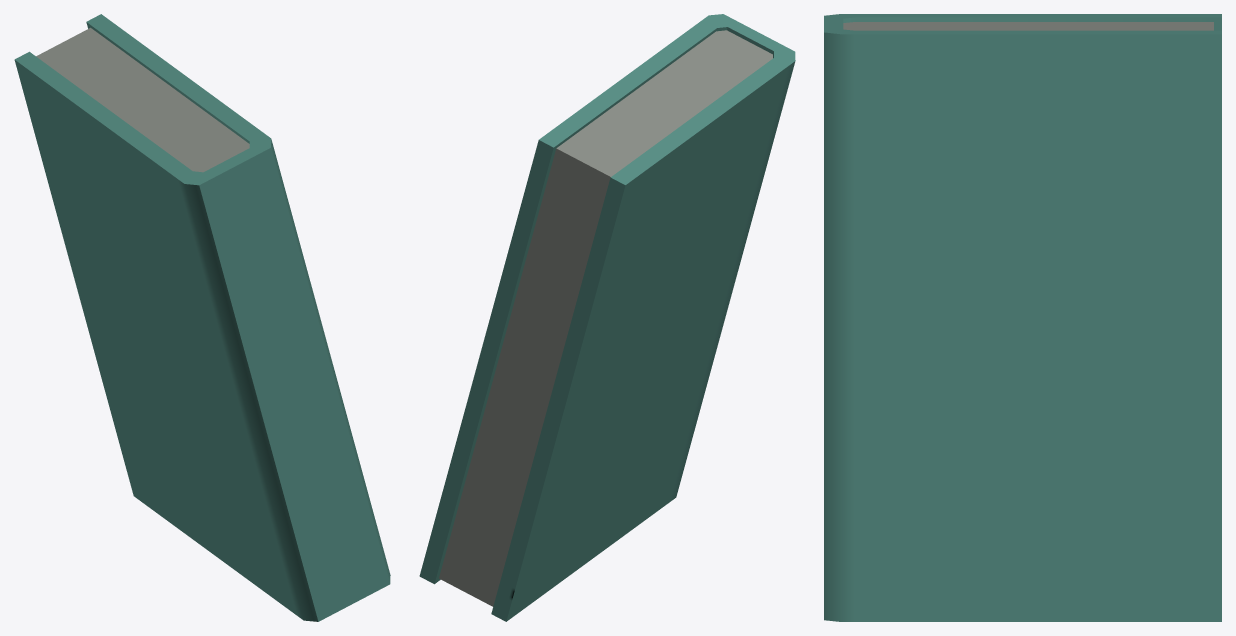
The model's file is Book.004.fbx.
3 renders of one model, left to right at view 1: azimuth 30°, elevation 25°; view 2: azimuth 150°, elevation 25°; view 3: azimuth 270°, elevation 25°, orthographic. The views are drawn at different scales.
Visible parts, largest first — view 1: Book.004; view 2: Book.004; view 3: Book.004.
Boxes of the visible parts, x1,y1,x2,y2 form: Book.004: (14,14,390,621); Book.004: (419,14,795,621); Book.004: (824,14,1221,621).
Bounding box in the file's own units: 10.68 × 24.28 × 15.92.
